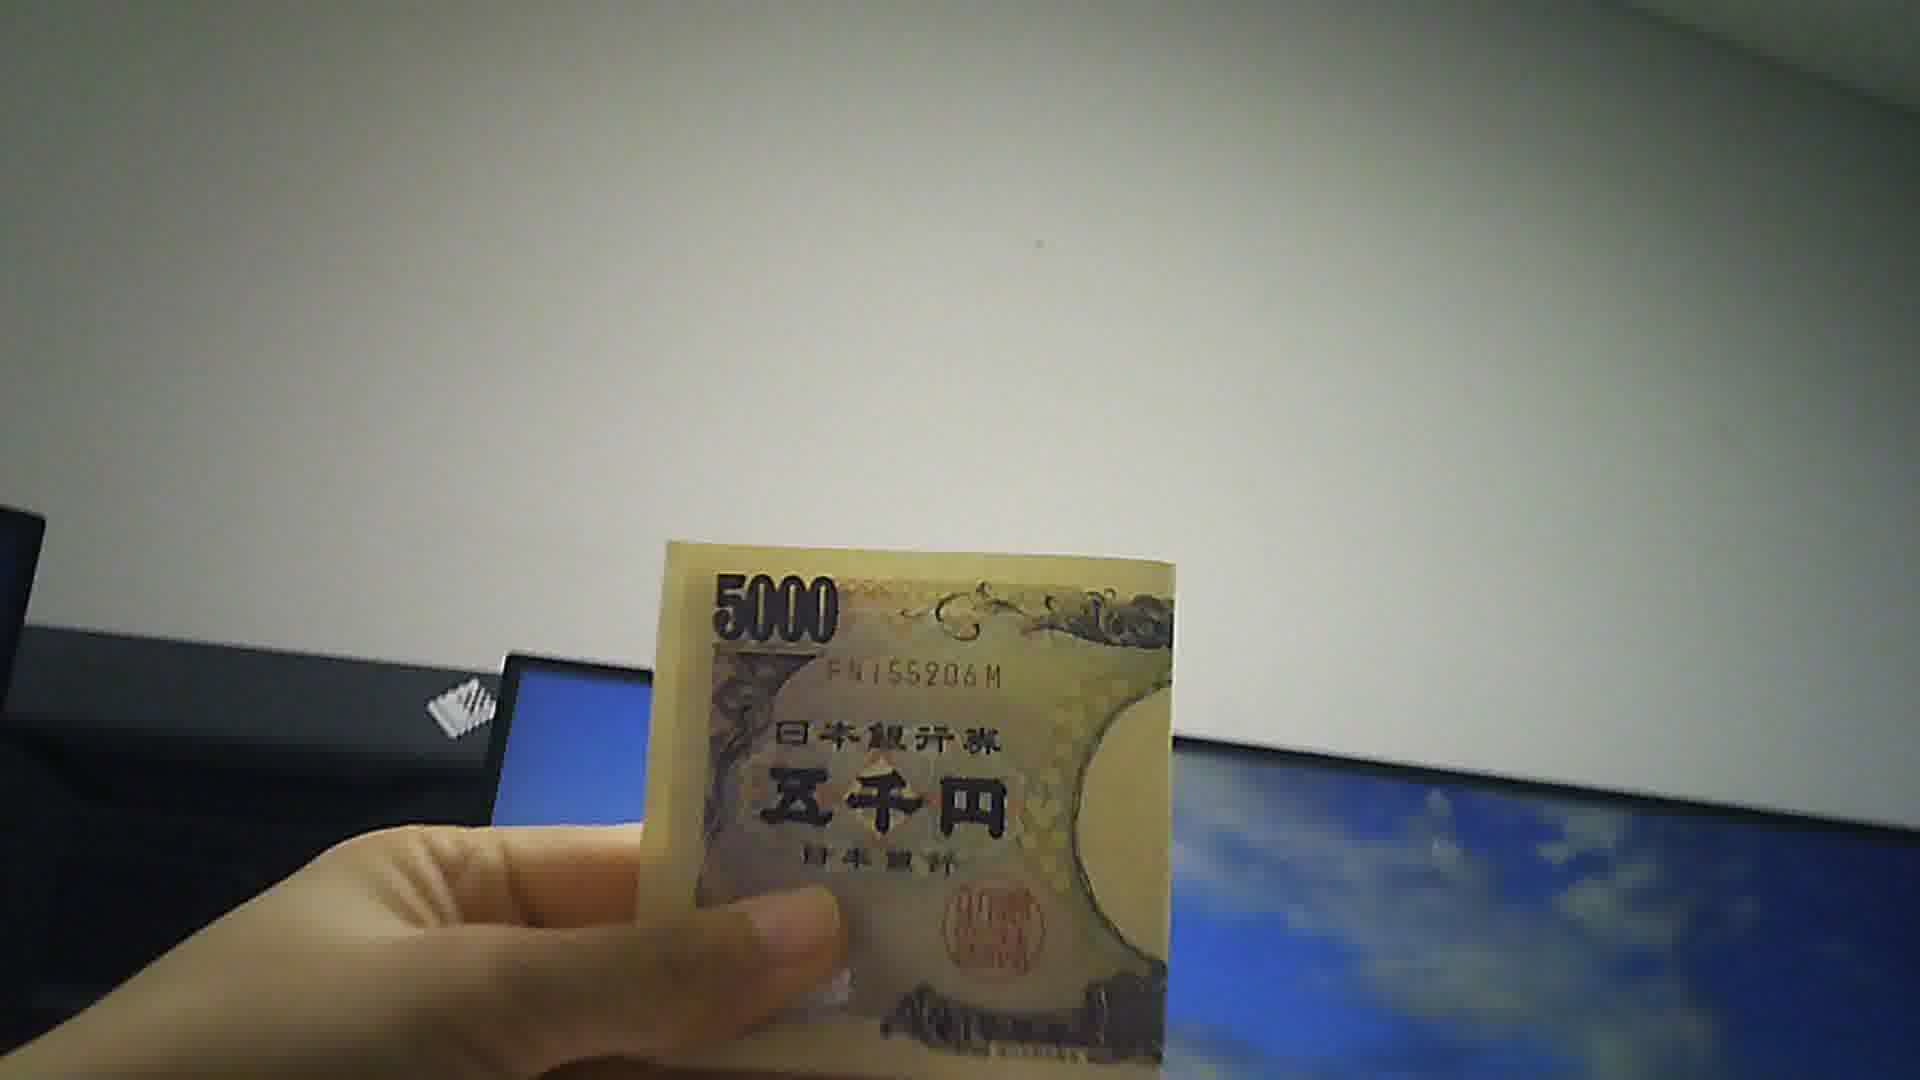5,000 Yen: (609, 525, 1215, 1079)
